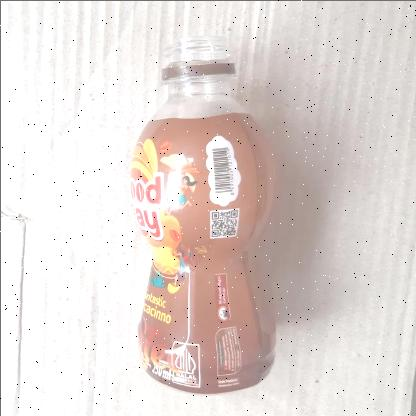Plastic Bottle: (134, 37, 278, 393)
